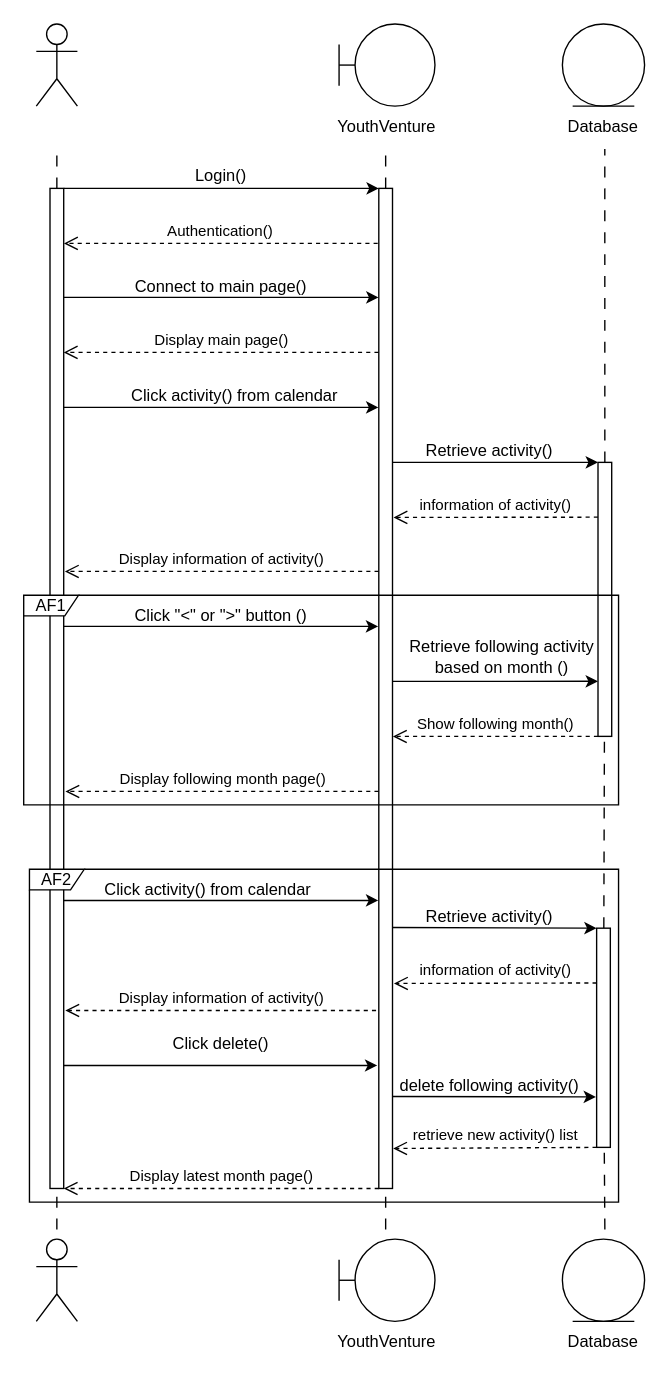
Some shapes in this 670 by 1386 pixel diagram are drawn without their labels. Here are the shapes that lost their labels. From the top down, the box of each, then its label:
(35, 23, 77, 106): Admin
(35, 1238, 77, 1321): Student
